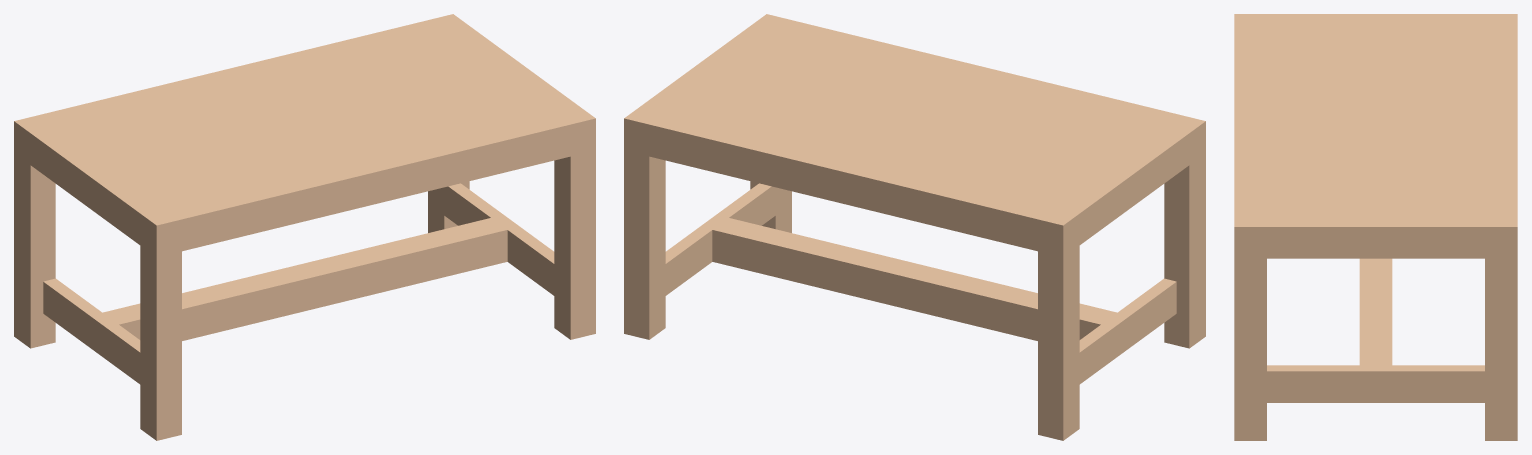
File: kenney-table.glb
3 renders of one model, left to right at view 1: azimuth 30°, elevation 25°; view 2: azimuth 150°, elevation 25°; view 3: azimuth 270°, elevation 25°, orthographic.
Parts seen in each view (by area): view 1: table(Clone); view 2: table(Clone); view 3: table(Clone).
Boxes of the visible parts, <box> form: table(Clone): <box>14,14,595,440</box>; table(Clone): <box>624,14,1205,440</box>; table(Clone): <box>1234,14,1517,440</box>.
Bounding box in the file's own units: 1.6 × 0.7499 × 0.9001.
